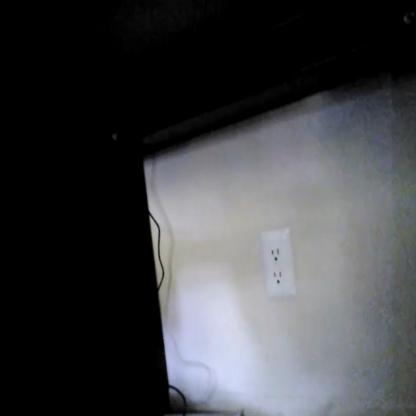OUTLET: (262, 230, 296, 296)
